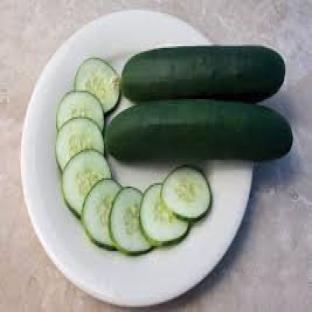Cucumber: (106, 100, 292, 161), (122, 47, 285, 102), (62, 151, 111, 216), (141, 184, 189, 245), (81, 179, 121, 249), (109, 187, 150, 254), (161, 167, 211, 219), (57, 118, 103, 170), (75, 58, 119, 112), (57, 91, 103, 130)
